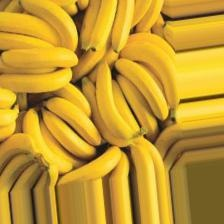banana: (43, 12, 211, 175)
